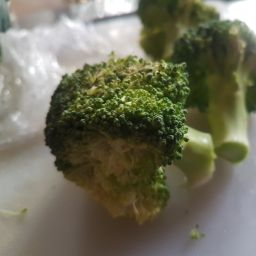Broccoli florets: (19, 51, 220, 214), (166, 14, 256, 171), (122, 1, 230, 64)
